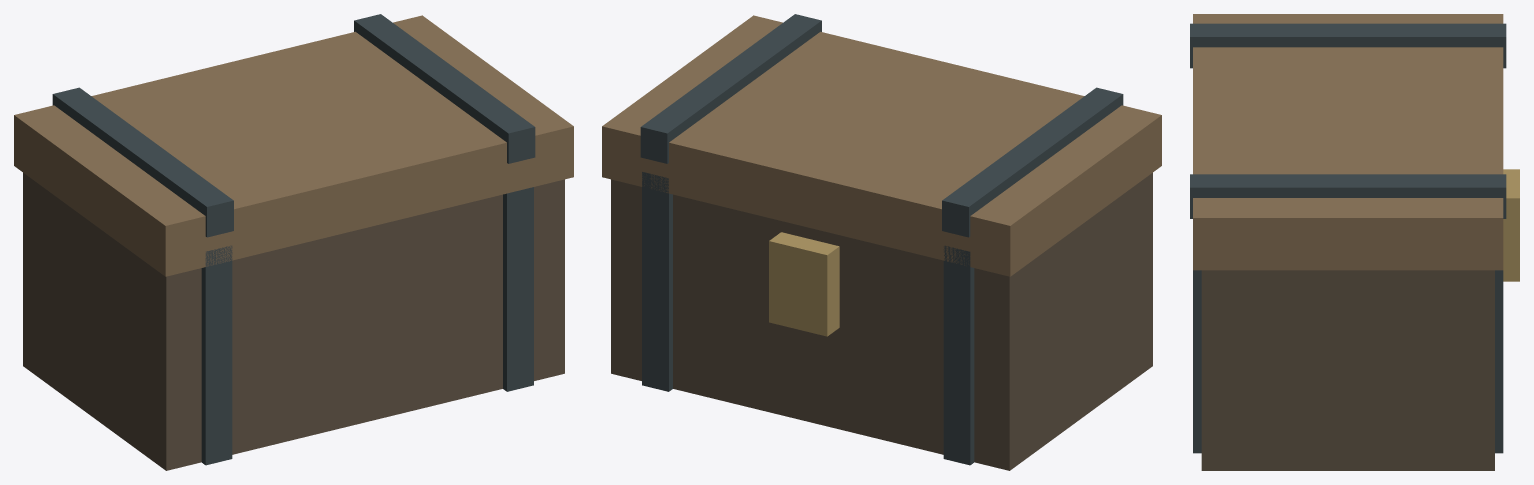
The model's file is Equip_Chest.fbx.
3 views of the same model, side by side, from view 1: azimuth 30°, elevation 25°; view 2: azimuth 150°, elevation 25°; view 3: azimuth 270°, elevation 25° (orthographic). The views are drawn at different scales.
Parts seen in each view (by area): view 1: Equip_Chest; view 2: Equip_Chest; view 3: Equip_Chest.
Part boxes in pixels (x1,y1,x2,y2): Equip_Chest: [14, 14, 573, 470]; Equip_Chest: [602, 14, 1161, 470]; Equip_Chest: [1190, 14, 1519, 470].
Bounding box in the file's own units: 0.84 × 0.51 × 0.5735.
